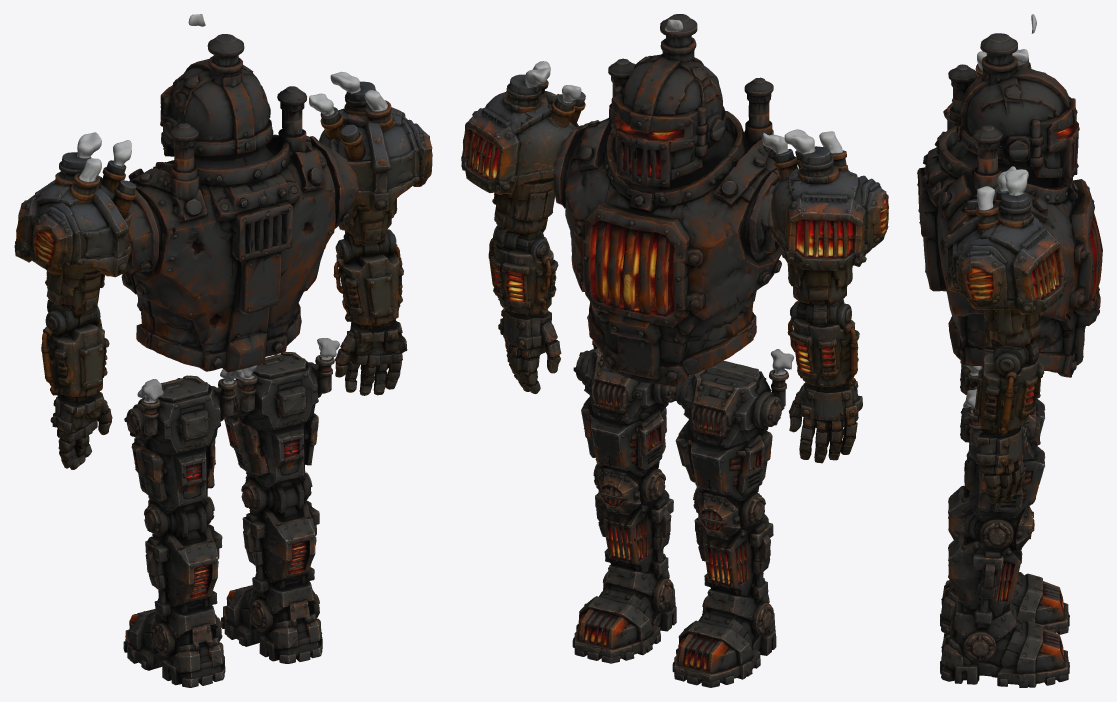
File: Gear_T05.glb
3 views of the same model, side by side, from view 1: azimuth 30°, elevation 25°; view 2: azimuth 150°, elevation 25°; view 3: azimuth 270°, elevation 25° (orthographic). The views are drawn at different scales.
Parts seen in each view (by area): view 1: Torso_Upper, ArmL_Upper, ArmR_Upper, LegL_Upper, LegR_Upper, Head, LegR_Lower, LegL_Lower, LegR_Foot, LegL_Foot, ArmR_Lower, ArmL_Lower (+3 smaller); view 2: Torso_Upper, ArmL_Upper, ArmR_Upper, LegL_Upper, Head, LegR_Upper, LegL_Foot, LegR_Foot, LegR_Lower, LegL_Lower, Torso_Lower, ArmL_Lower (+3 smaller); view 3: Torso_Upper, ArmR_Upper, Head, LegR_Foot, LegR_Lower, ArmR_Lower, LegR_Upper, LegL_Foot, ArmR_Hand, Torso_Lower, LegL_Lower, ArmL_Upper (+1 smaller).
Part boxes in pixels (x1=…): Torso_Upper: x1=121, y1=112, x2=359, y2=345; ArmL_Upper: x1=14, y1=132, x2=136, y2=312; ArmR_Upper: x1=309, y1=71, x2=432, y2=242; LegL_Upper: x1=124, y1=369, x2=244, y2=509; LegR_Upper: x1=224, y1=338, x2=339, y2=485; Head: x1=160, y1=14, x2=306, y2=159; LegR_Lower: x1=241, y1=472, x2=319, y2=584; LegL_Lower: x1=144, y1=496, x2=222, y2=607; LegR_Foot: x1=221, y1=570, x2=322, y2=663; LegL_Foot: x1=123, y1=594, x2=225, y2=687; ArmR_Lower: x1=333, y1=229, x2=403, y2=327; ArmL_Lower: x1=41, y1=299, x2=109, y2=400; Torso_Upper: x1=553, y1=91, x2=782, y2=344; ArmL_Upper: x1=762, y1=129, x2=888, y2=310; ArmR_Upper: x1=461, y1=61, x2=585, y2=234; LegL_Upper: x1=673, y1=349, x2=793, y2=500; Head: x1=608, y1=14, x2=773, y2=142; LegR_Upper: x1=573, y1=315, x2=676, y2=475; LegL_Foot: x1=672, y1=575, x2=776, y2=687; LegR_Foot: x1=572, y1=551, x2=676, y2=663; LegR_Lower: x1=593, y1=461, x2=673, y2=566; LegL_Lower: x1=693, y1=486, x2=773, y2=590; Torso_Lower: x1=588, y1=302, x2=756, y2=386; ArmL_Lower: x1=787, y1=299, x2=859, y2=389; Torso_Upper: x1=917, y1=98, x2=1102, y2=352; ArmR_Upper: x1=943, y1=166, x2=1066, y2=349; Head: x1=948, y1=14, x2=1078, y2=159; LegR_Foot: x1=940, y1=599, x2=1069, y2=687; LegR_Lower: x1=948, y1=505, x2=1034, y2=614; ArmR_Lower: x1=972, y1=342, x2=1044, y2=435; LegR_Upper: x1=960, y1=361, x2=1045, y2=516; LegL_Foot: x1=940, y1=572, x2=1069, y2=634; ArmR_Hand: x1=976, y1=426, x2=1028, y2=504; Torso_Lower: x1=948, y1=316, x2=1085, y2=377; LegL_Lower: x1=948, y1=460, x2=969, y2=539; ArmL_Upper: x1=943, y1=49, x2=1031, y2=119.
Size of the model in its own units: 4.1 by 6.25 by 1.68.
3 materials, 3 textured.
